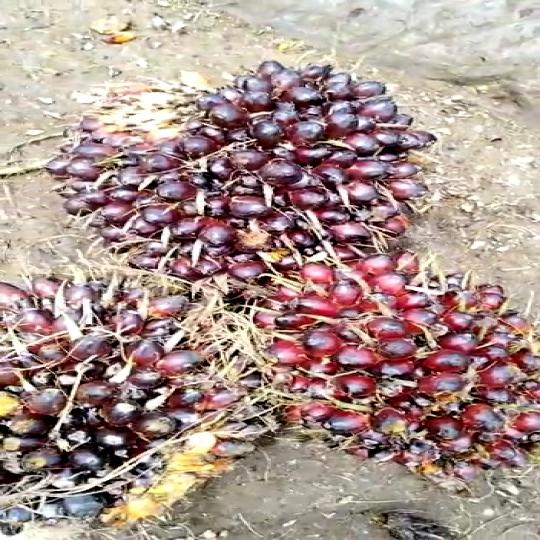kurang masak: (47, 64, 436, 310), (197, 244, 540, 488), (0, 252, 248, 540)
